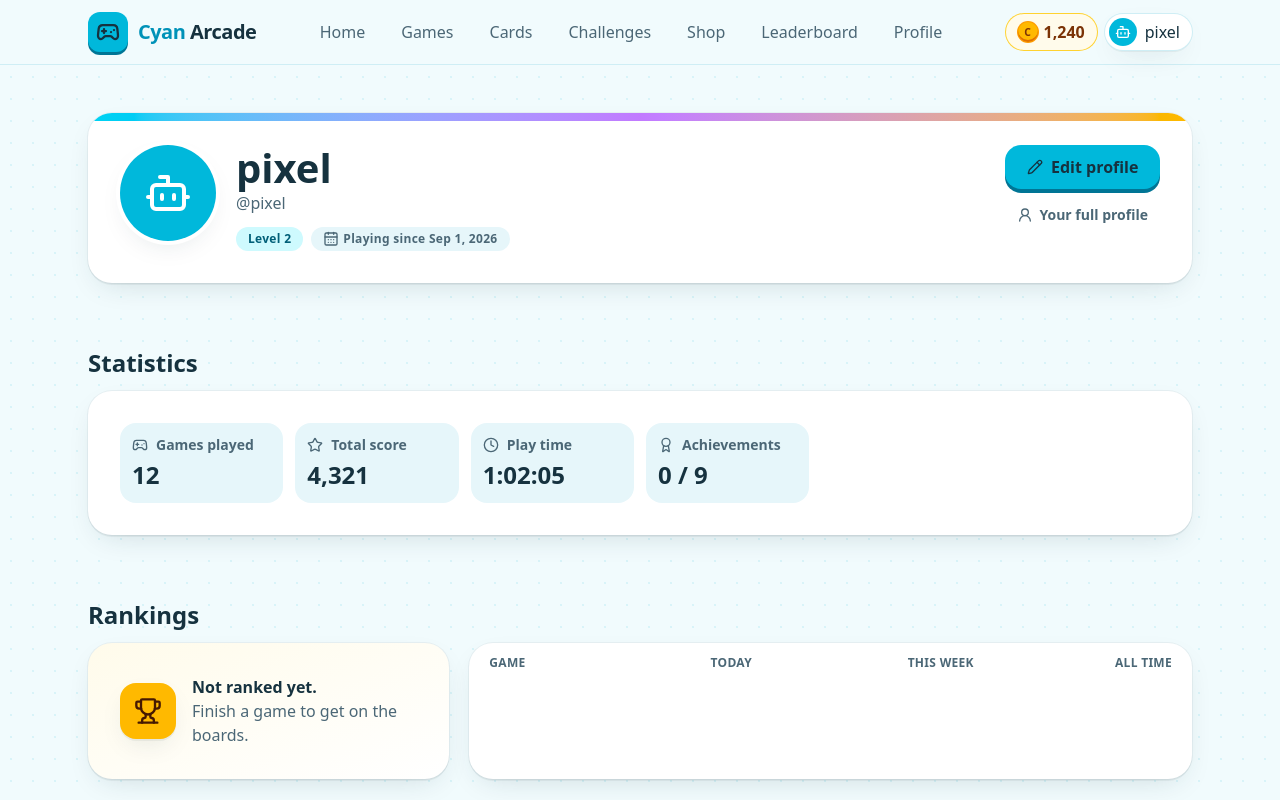
public profiles › lets the owner edit from their public profile
Click the button "Edit profile" at (1083, 167), box x1=1006 y1=145 x2=1160 y2=189
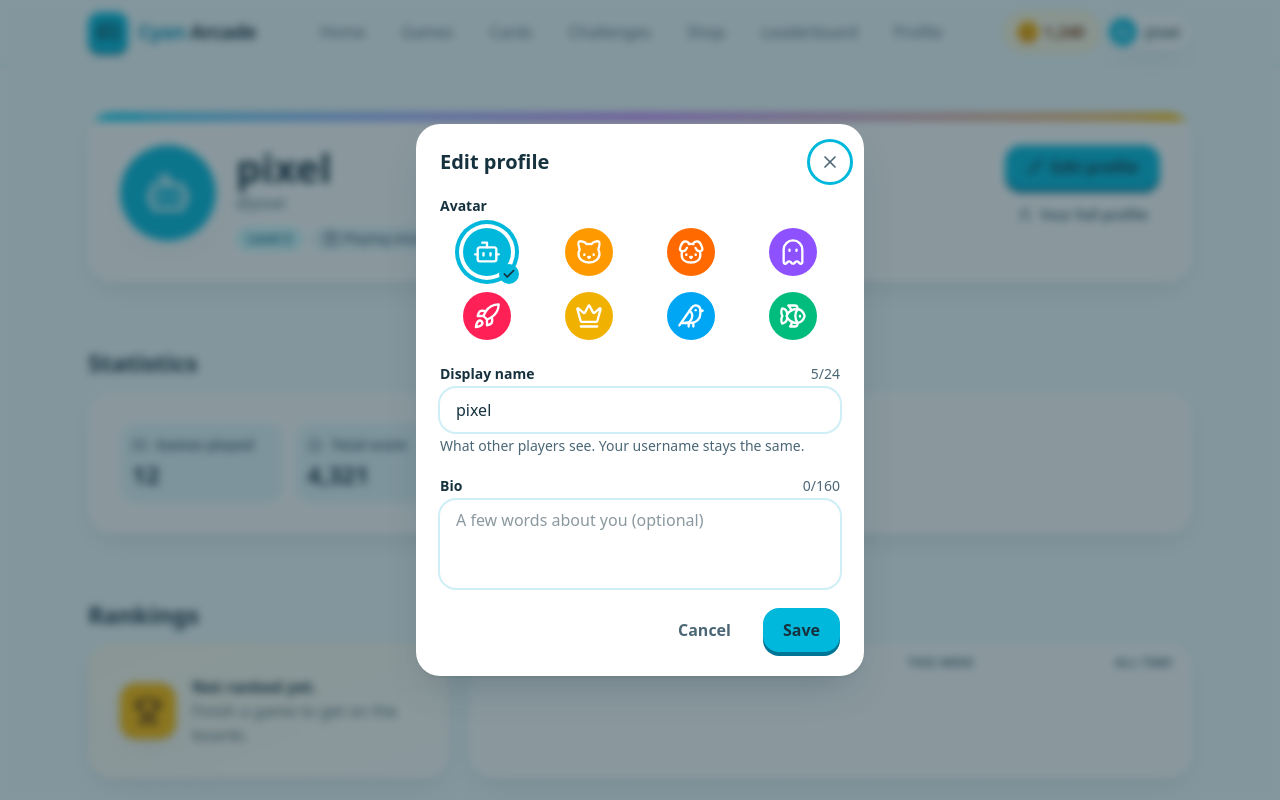
Replace the text in the field labelled "Display name 5/24" with "Pixie" at (640, 410), box x1=440 y1=388 x2=840 y2=432
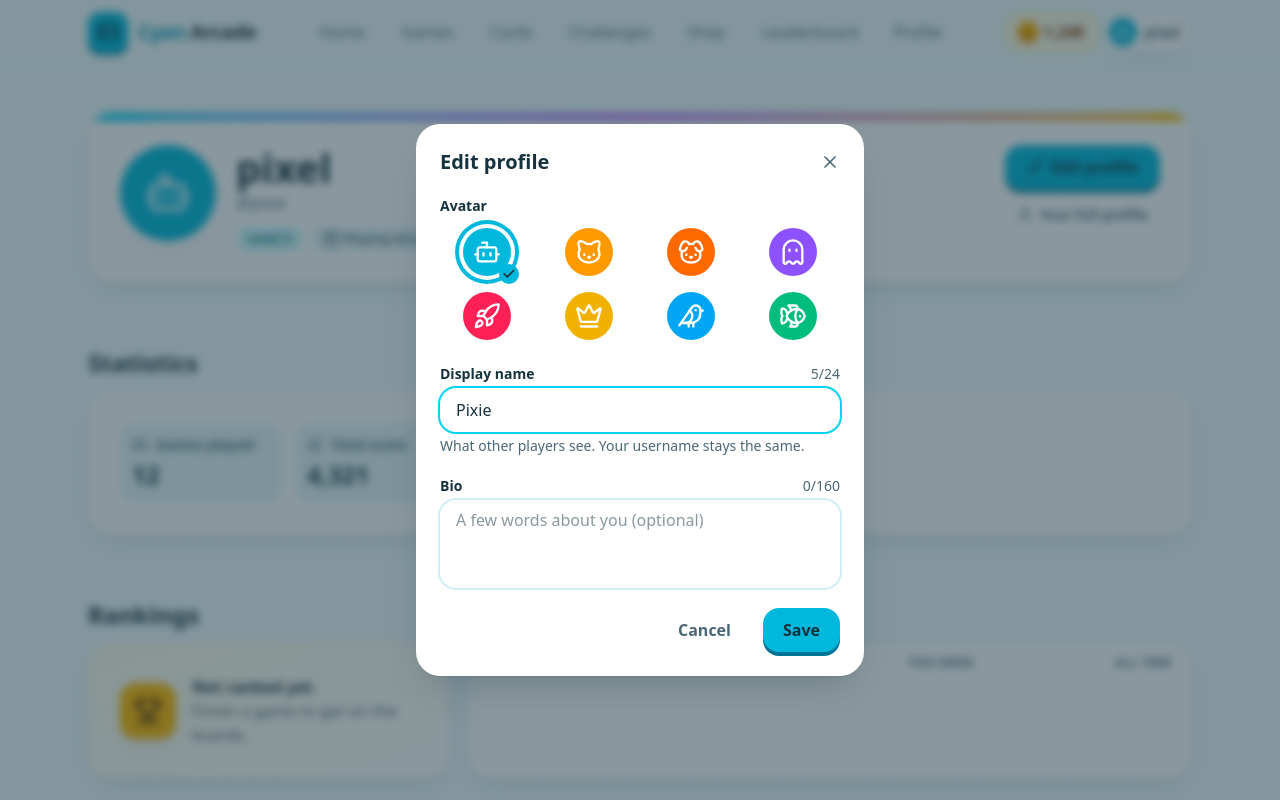
Click the button "Save" at (802, 630), box x1=763 y1=608 x2=840 y2=652
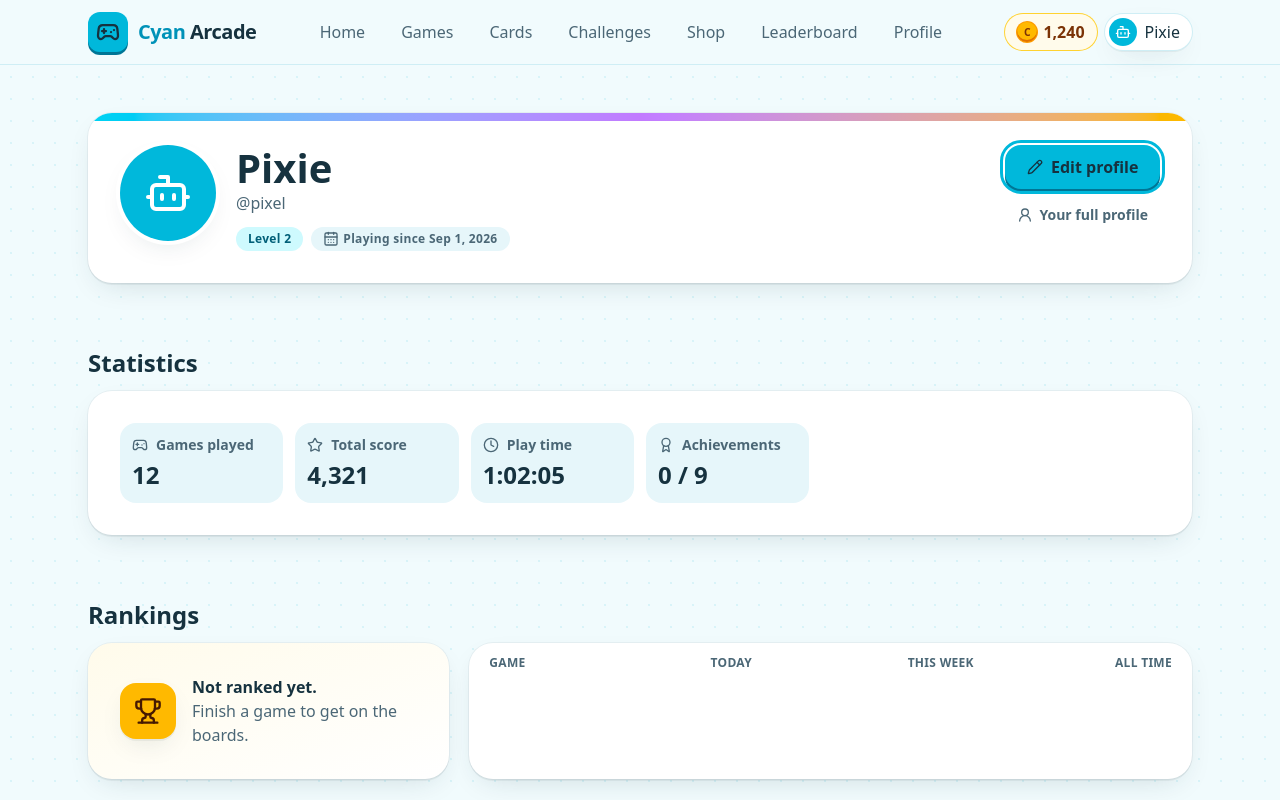
Expected: the text "@pixel" is shown, x1=236 y1=192 x2=286 y2=214
Expected: the heading "Pixie" is shown, x1=236 y1=140 x2=332 y2=195
